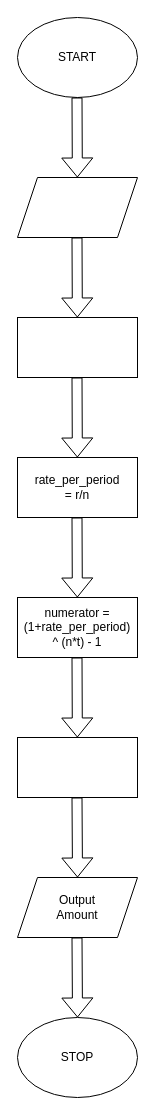
This 155x1115 diagram has some shape labels left out. Here are the shapes that lost their labels. From the top down, the box of each, then its label:
(16, 176, 138, 238): Input PMT, R, n, t
(16, 316, 138, 378): rate = R/100
(16, 736, 138, 798): Amount = PMT * num/rate_per_period
